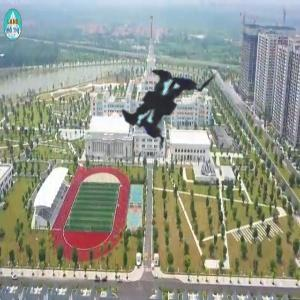drone: (73, 14, 260, 201)
